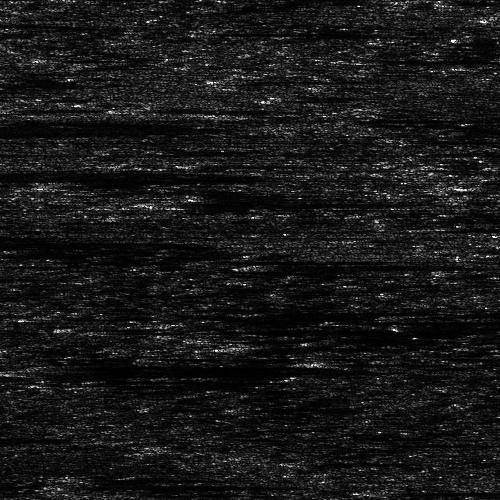object: (4, 477, 97, 492), (118, 198, 223, 209), (0, 365, 60, 376), (339, 485, 412, 494), (269, 457, 352, 464), (160, 158, 223, 167), (96, 104, 169, 111), (230, 262, 283, 269), (155, 258, 228, 263), (20, 325, 93, 330), (290, 360, 353, 365), (333, 55, 386, 60), (0, 105, 33, 110), (339, 320, 380, 323), (187, 30, 228, 33), (420, 0, 451, 3)
shadow: (23, 365, 334, 376), (50, 477, 270, 492), (0, 119, 191, 136), (0, 237, 213, 250), (171, 198, 363, 209), (0, 169, 165, 180), (257, 262, 451, 269), (192, 158, 339, 167), (376, 485, 500, 494), (133, 104, 271, 111), (191, 258, 333, 263), (360, 55, 500, 60), (311, 457, 408, 464), (0, 432, 50, 443), (322, 360, 422, 365), (56, 325, 148, 330), (13, 105, 100, 110), (208, 30, 351, 33), (360, 320, 500, 323), (436, 0, 500, 3)
